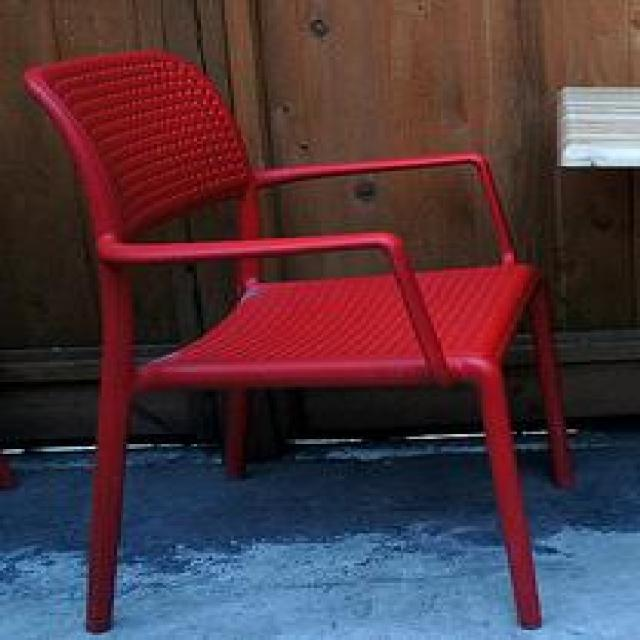chair: (22, 44, 583, 637)
